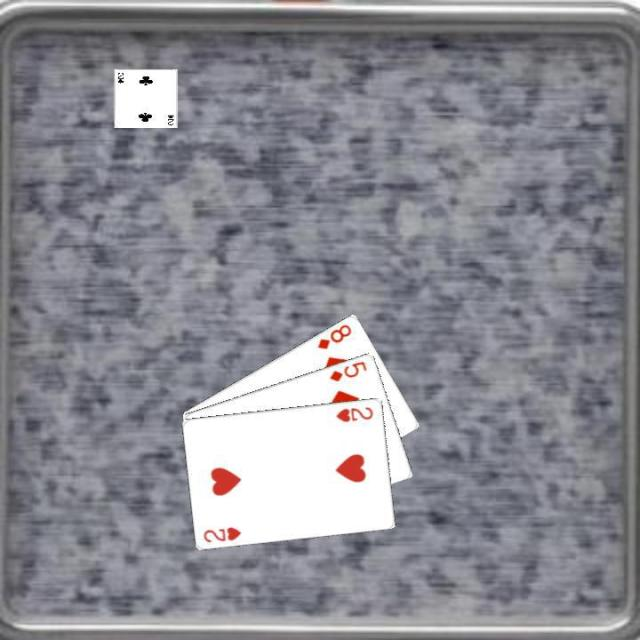2H: (200, 523, 244, 544), (333, 403, 375, 423)
5D: (326, 357, 369, 383)
8D: (314, 320, 353, 351)
